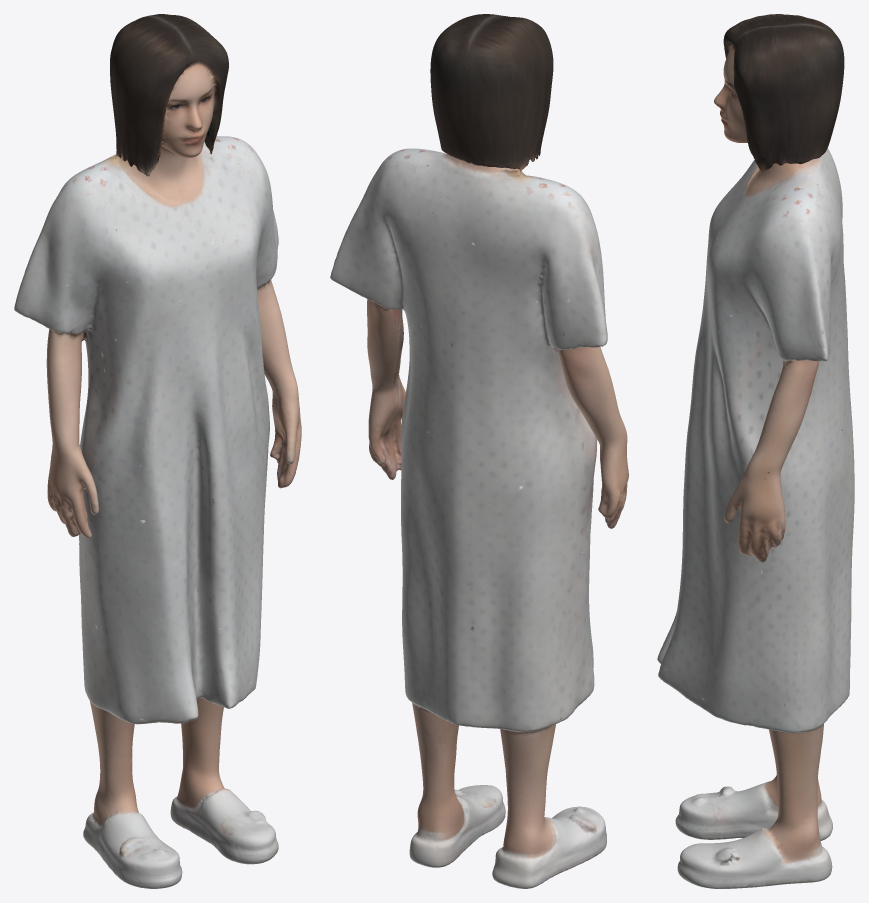
The model's file is patient2.glb.
The picture shows the model from 3 angles, left to right: view 1: azimuth 30°, elevation 25°; view 2: azimuth 150°, elevation 25°; view 3: azimuth 270°, elevation 25°; orthographic projection. The views are drawn at different scales.
Bounding box in the file's own units: 0.6823 × 2 × 0.4297.
Materials: 1 (1 with a texture image).
